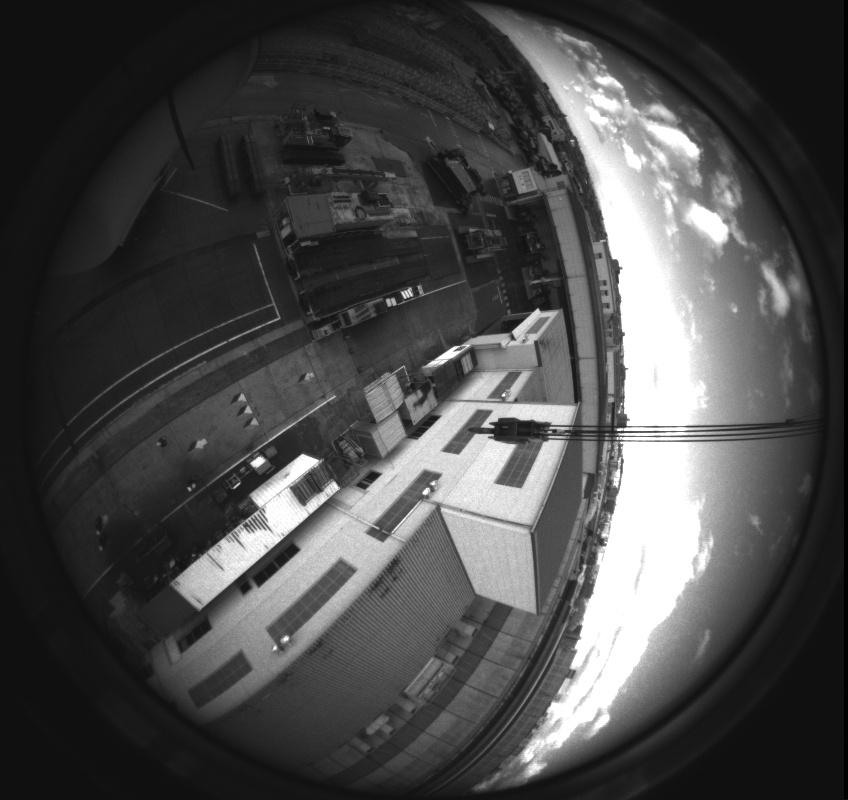rope: (460, 409, 847, 451)
